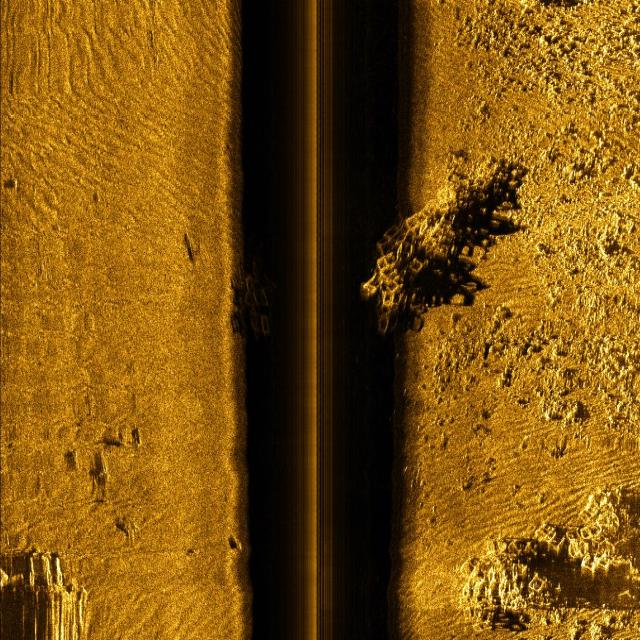artificial reef: (370, 150, 519, 337), (454, 511, 620, 640), (228, 248, 280, 334)
